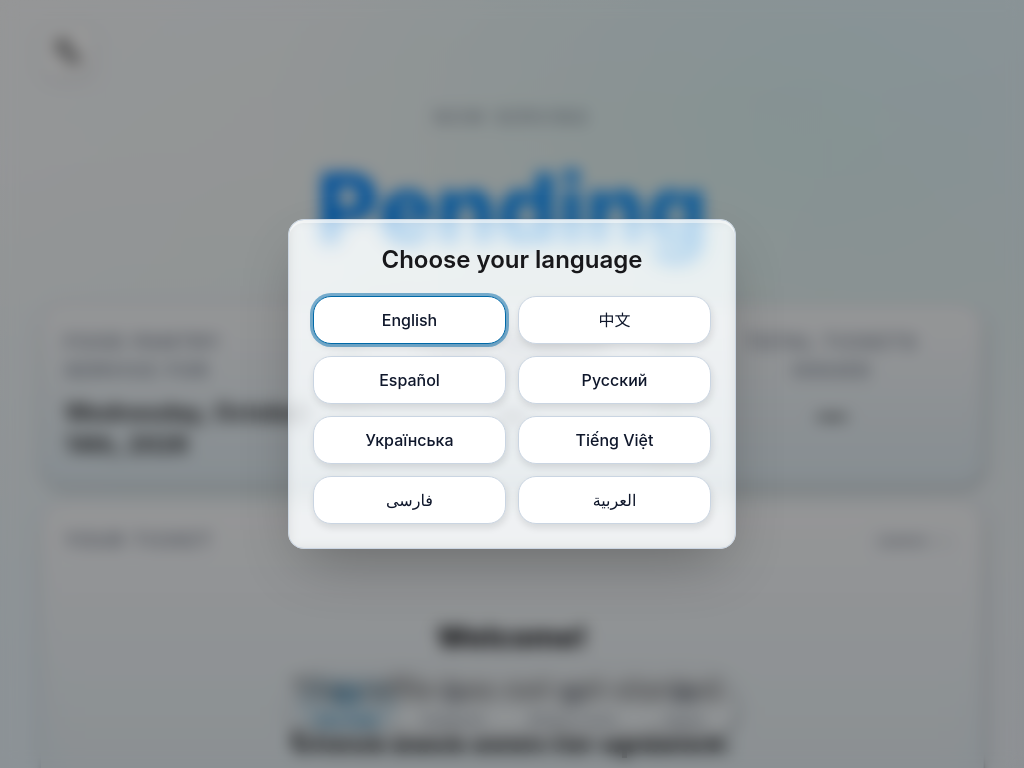
homepage ticket persistence › saves the ticket and dismisses onboarding even before the drawing has started
Step 1. Click the button "English" → (410, 320), box [313,296,506,344]
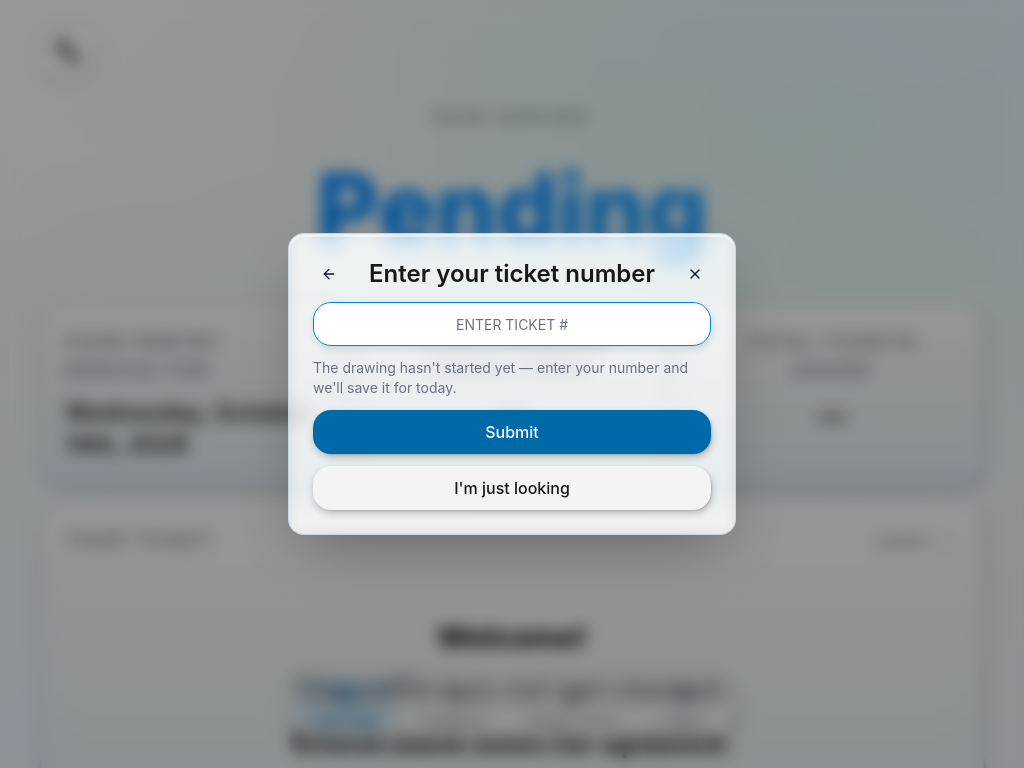
Step 2. Type "24" into the field named "Enter your ticket number" → (512, 324), box [313,302,711,346]
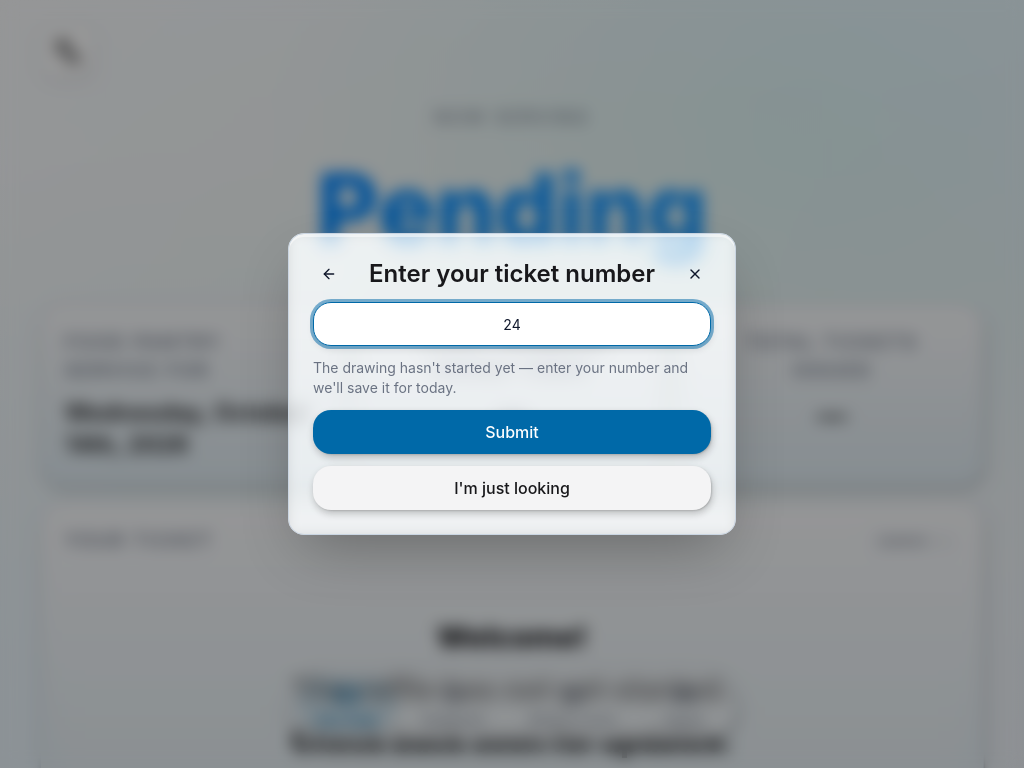
Step 3. Click the button "Submit" → (512, 432), box [313,410,711,454]
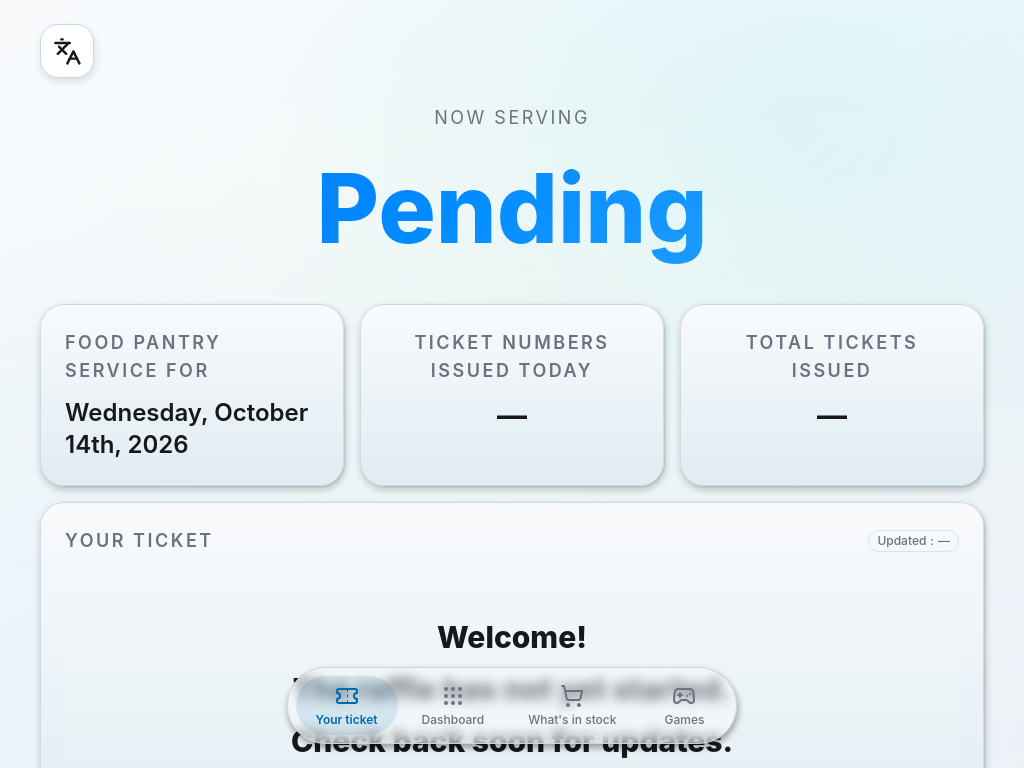
Expected: the dialog is gone
